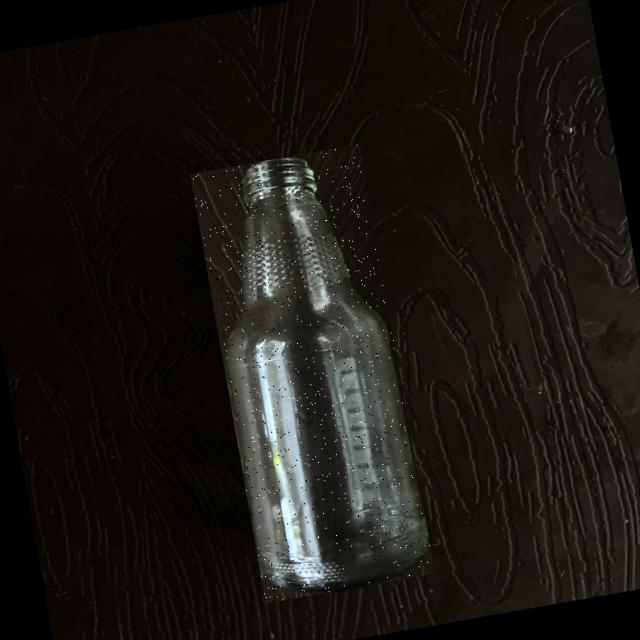Glass_Bottle: (228, 158, 427, 592)
